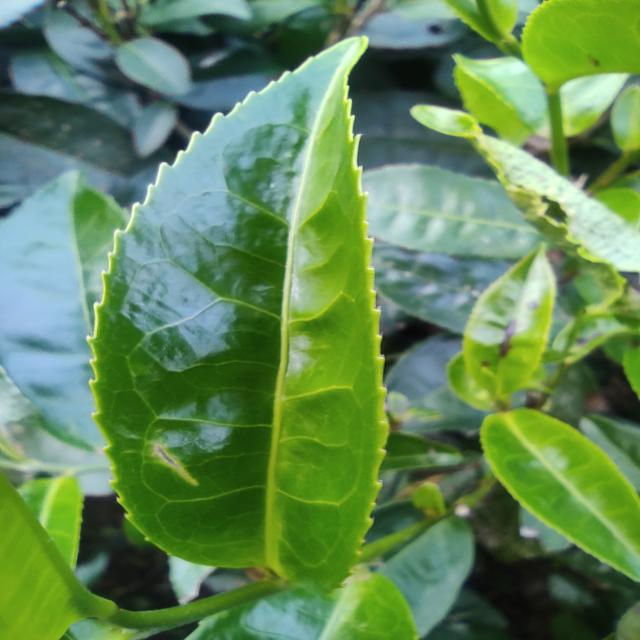Category C(4-7 days): (74, 8, 424, 619)
